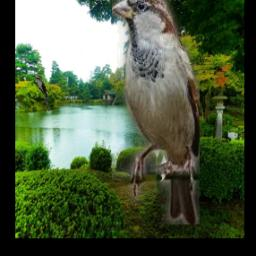Cuckoo: (35, 76, 49, 111)
Sparrow: (112, 0, 200, 224)
